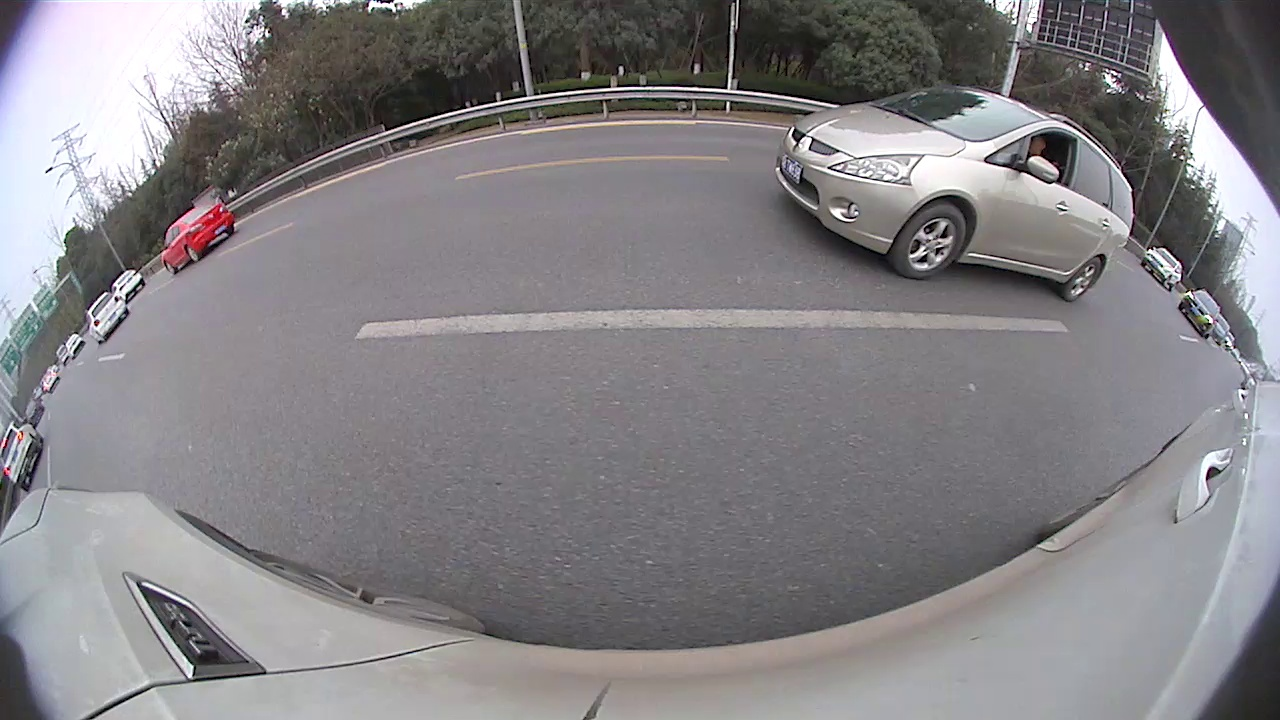car: (774, 82, 1136, 304), (160, 200, 238, 276), (1, 419, 46, 492), (85, 289, 131, 344), (1176, 287, 1222, 340), (1140, 245, 1184, 292), (109, 266, 148, 304), (1209, 314, 1233, 347)
front: (897, 205, 966, 279), (164, 261, 177, 274)
rear: (1065, 257, 1102, 302), (186, 247, 199, 264)
